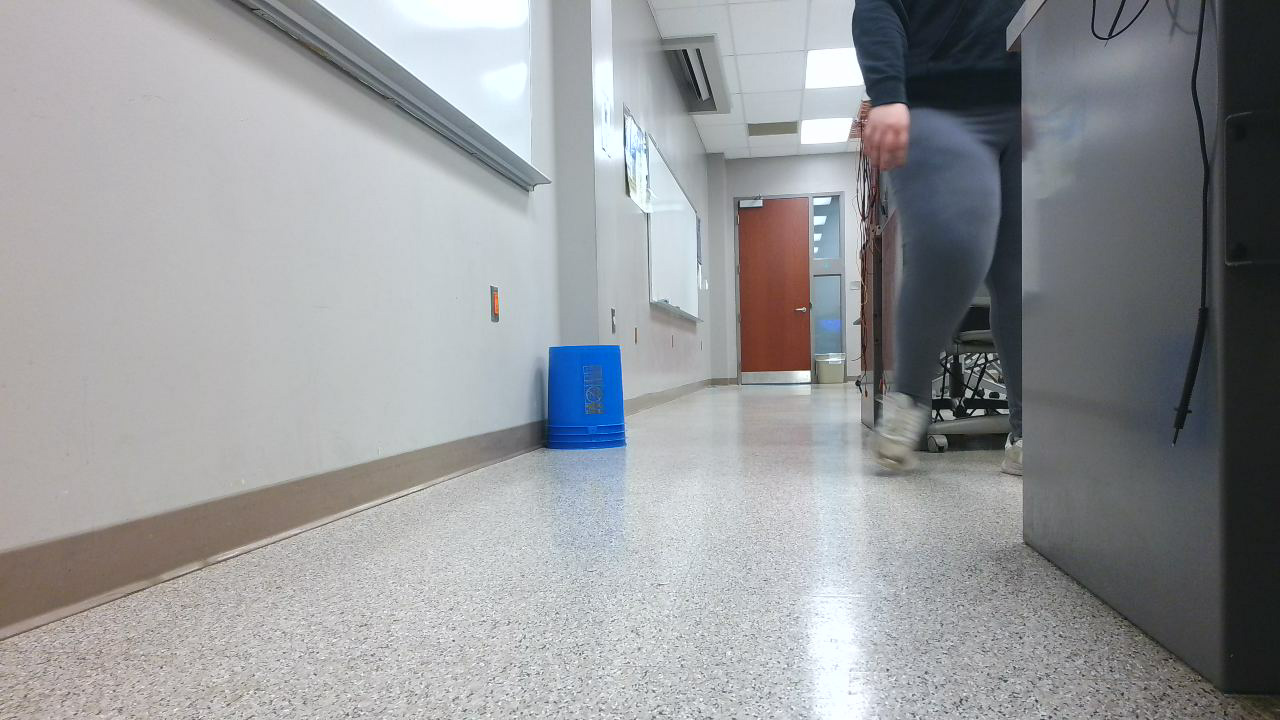blue_bucket: (544, 345, 638, 459)
